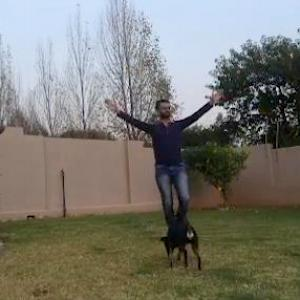takeoff: (104, 58, 254, 243)
